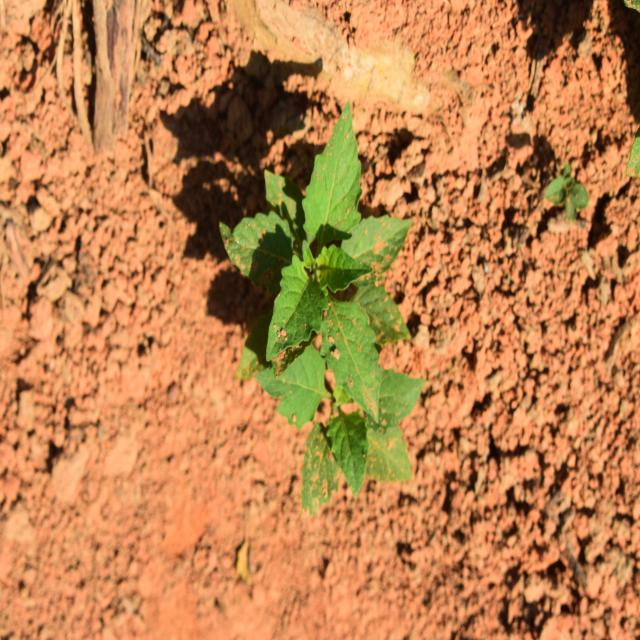Black_nightshade: (237, 134, 427, 483)
